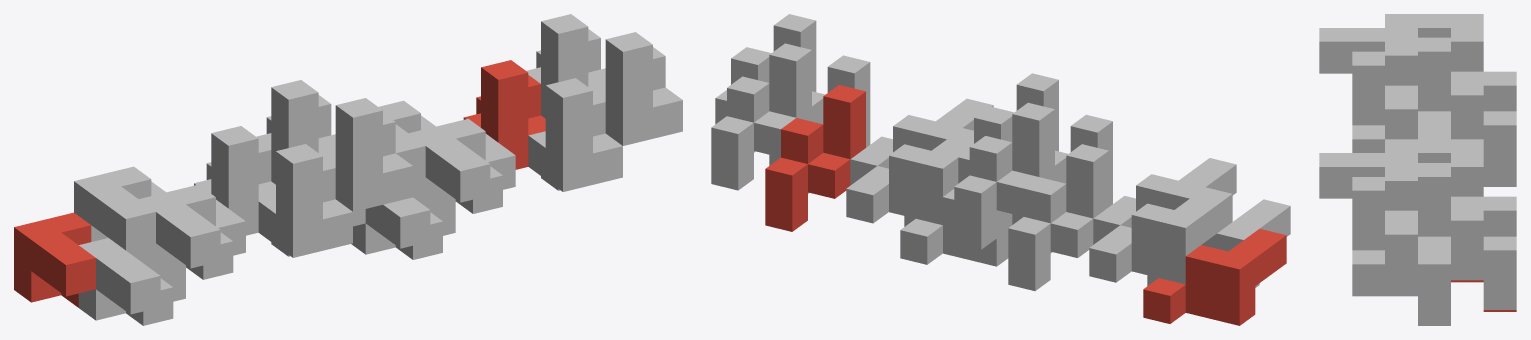
The model's file is tiling.obj.
3 renders of one model, left to right at view 1: azimuth 30°, elevation 25°; view 2: azimuth 150°, elevation 25°; view 3: azimuth 270°, elevation 25°, orthographic. The views are drawn at different scales.
Parts seen in each view (by area): view 1: copy_2_domain_6, copy_2_domain_2, copy_2_domain_8, copy_2_domain_4, copy_1_domain_8, copy_1_domain_4, copy_1_domain_2, copy_1_domain_1, copy_1_domain_3, copy_2_domain_1, copy_2_domain_5, copy_1_domain_6 (+3 smaller); view 2: copy_2_domain_1, copy_2_domain_5, copy_2_domain_3, copy_2_domain_7, copy_1_domain_1, copy_1_domain_3, copy_1_domain_7, copy_1_domain_4, copy_1_domain_5, copy_1_domain_8, copy_2_domain_8, copy_2_domain_4 (+3 smaller); view 3: copy_2_domain_8, copy_2_domain_7, copy_2_domain_3, copy_2_domain_4, copy_1_domain_7, copy_1_domain_3, copy_1_domain_4, copy_1_domain_8, copy_2_domain_6, copy_2_domain_5.
Part boxes in pixels (<box>): copy_2_domain_6: <box>528,78,622,191</box>; copy_2_domain_2: <box>258,144,352,257</box>; copy_2_domain_8: <box>591,32,682,145</box>; copy_2_domain_4: <box>321,98,412,211</box>; copy_1_domain_8: <box>409,118,515,213</box>; copy_1_domain_4: <box>139,184,245,279</box>; copy_1_domain_2: <box>78,238,185,325</box>; copy_1_domain_1: <box>14,212,95,307</box>; copy_1_domain_3: <box>74,166,165,250</box>; copy_2_domain_1: <box>194,126,275,235</box>; copy_2_domain_5: <box>463,60,545,169</box>; copy_1_domain_6: <box>351,177,455,259</box>; copy_2_domain_1: <box>1008,144,1108,290</box>; copy_2_domain_5: <box>765,85,865,231</box>; copy_2_domain_3: <box>954,102,1054,249</box>; copy_2_domain_7: <box>711,43,811,190</box>; copy_1_domain_1: <box>1143,228,1286,325</box>; copy_1_domain_3: <box>1089,187,1232,284</box>; copy_1_domain_7: <box>846,128,973,225</box>; copy_1_domain_4: <box>1093,158,1236,244</box>; copy_1_domain_5: <box>900,189,1012,266</box>; copy_1_domain_8: <box>850,98,993,185</box>; copy_2_domain_8: <box>715,14,816,152</box>; copy_2_domain_4: <box>958,73,1058,183</box>; copy_2_domain_8: <box>1352,177,1450,323</box>; copy_2_domain_7: <box>1418,163,1516,309</box>; copy_2_domain_3: <box>1418,37,1516,184</box>; copy_2_domain_4: <box>1352,51,1450,152</box>; copy_1_domain_7: <box>1385,139,1516,236</box>; copy_1_domain_3: <box>1385,14,1516,111</box>; copy_1_domain_4: <box>1319,28,1417,95</box>; copy_1_domain_8: <box>1319,153,1417,220</box>; copy_2_domain_6: <box>1352,294,1450,325</box>; copy_2_domain_5: <box>1451,280,1516,311</box>.
Bounding box in the file's own units: 20 × 5 × 6.
